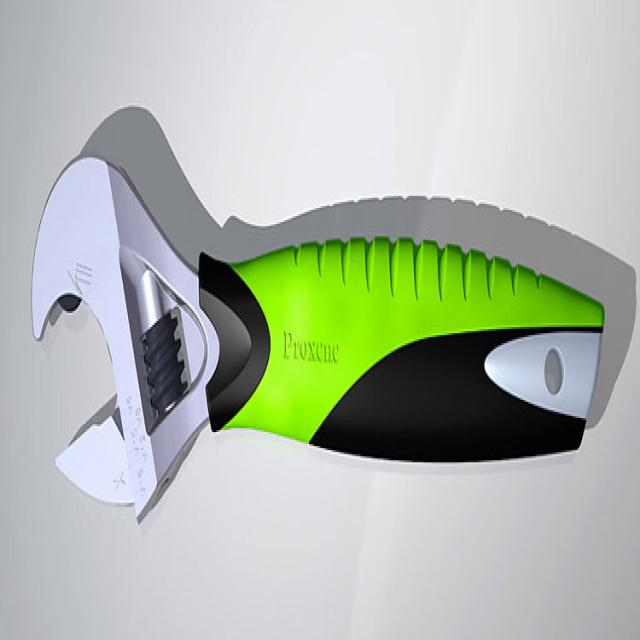wrench: (18, 84, 606, 581)
